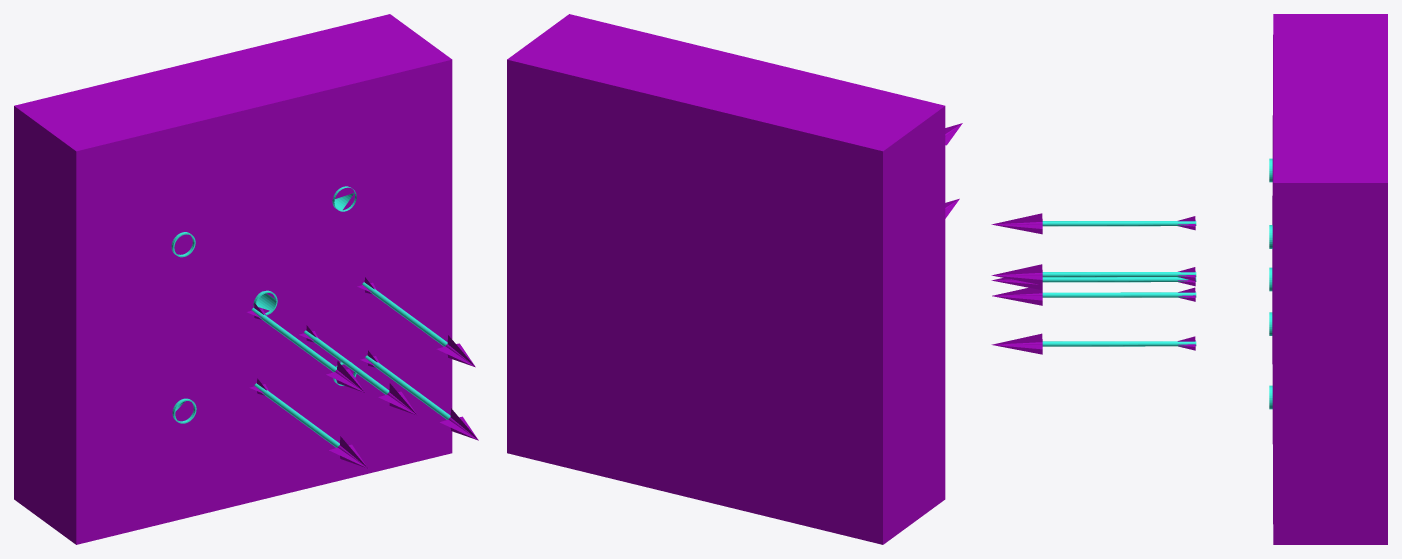
Rendered from wall arrows.fbx.
The picture shows the model from 3 angles, left to right: view 1: azimuth 30°, elevation 25°; view 2: azimuth 150°, elevation 25°; view 3: azimuth 270°, elevation 25°; orthographic projection. The views are drawn at different scales.
Visible parts, largest first — view 1: Cube, Cylinder.007, Cylinder.008, Cylinder.009, Cylinder.005, Cylinder.006; view 2: Cube; view 3: Cube, Cylinder.008, Cylinder.009, Cylinder.007, Cylinder.005, Cylinder.006, Cone.004, Cone.008, Cone.002, Cone.006.
Boxes of the visible parts, x1=… form: Cube: x1=14, y1=14, x2=452, y2=544; Cylinder.007: x1=251, y1=307, x2=336, y2=372; Cylinder.008: x1=254, y1=383, x2=339, y2=447; Cylinder.009: x1=365, y1=355, x2=450, y2=419; Cylinder.005: x1=304, y1=330, x2=389, y2=394; Cylinder.006: x1=362, y1=282, x2=447, y2=346; Cube: x1=507, y1=14, x2=945, y2=544; Cube: x1=1272, y1=14, x2=1387, y2=544; Cylinder.008: x1=1042, y1=292, x2=1196, y2=297; Cylinder.009: x1=1042, y1=341, x2=1196, y2=346; Cylinder.007: x1=1042, y1=221, x2=1196, y2=226; Cylinder.005: x1=1042, y1=277, x2=1196, y2=282; Cylinder.006: x1=1042, y1=272, x2=1196, y2=277; Cone.004: x1=991, y1=213, x2=1042, y2=234; Cone.008: x1=991, y1=333, x2=1042, y2=354; Cone.002: x1=991, y1=264, x2=1042, y2=285; Cone.006: x1=992, y1=287, x2=1042, y2=305.
Bounding box in the file's own units: 149 × 149 × 148.
